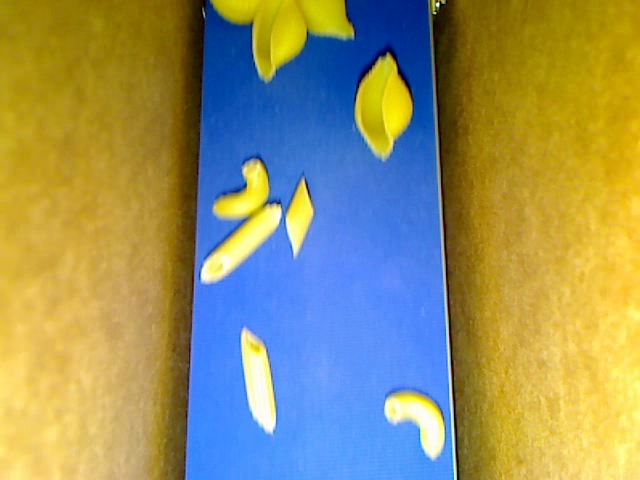elbow: (383, 389, 444, 461), (213, 158, 269, 220)
penne: (200, 203, 283, 284), (240, 326, 277, 434), (285, 173, 314, 258)
shell: (354, 52, 414, 163), (252, 1, 307, 84), (295, 1, 354, 42), (210, 1, 262, 27)
